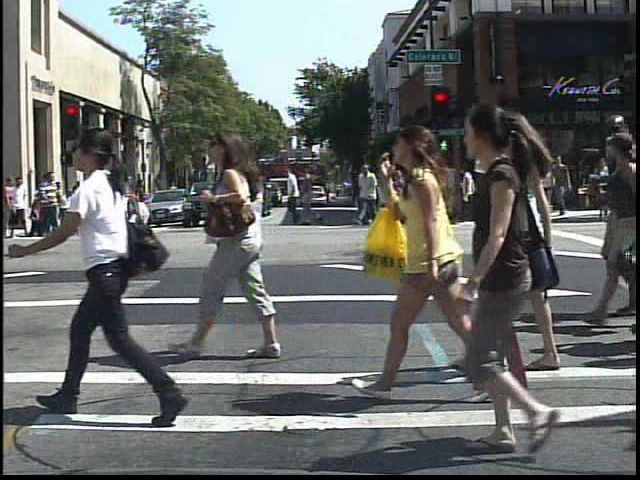person: (419, 98, 609, 465), (26, 116, 174, 433), (173, 118, 304, 364), (469, 106, 586, 377), (378, 118, 475, 401), (80, 160, 111, 238), (488, 152, 521, 225), (36, 165, 61, 235), (7, 172, 30, 242), (103, 177, 123, 215), (165, 175, 183, 212)
